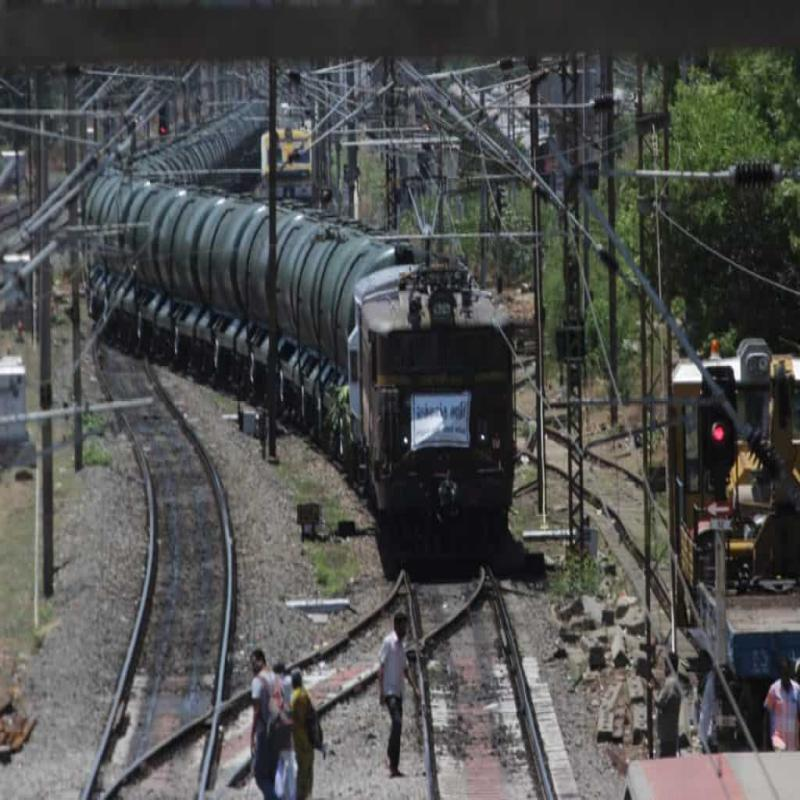train: (131, 144, 557, 523)
